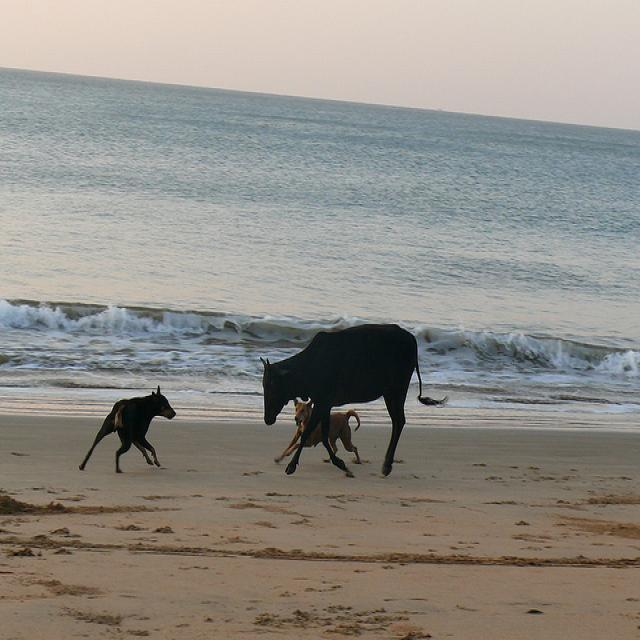cow: (258, 320, 448, 475)
